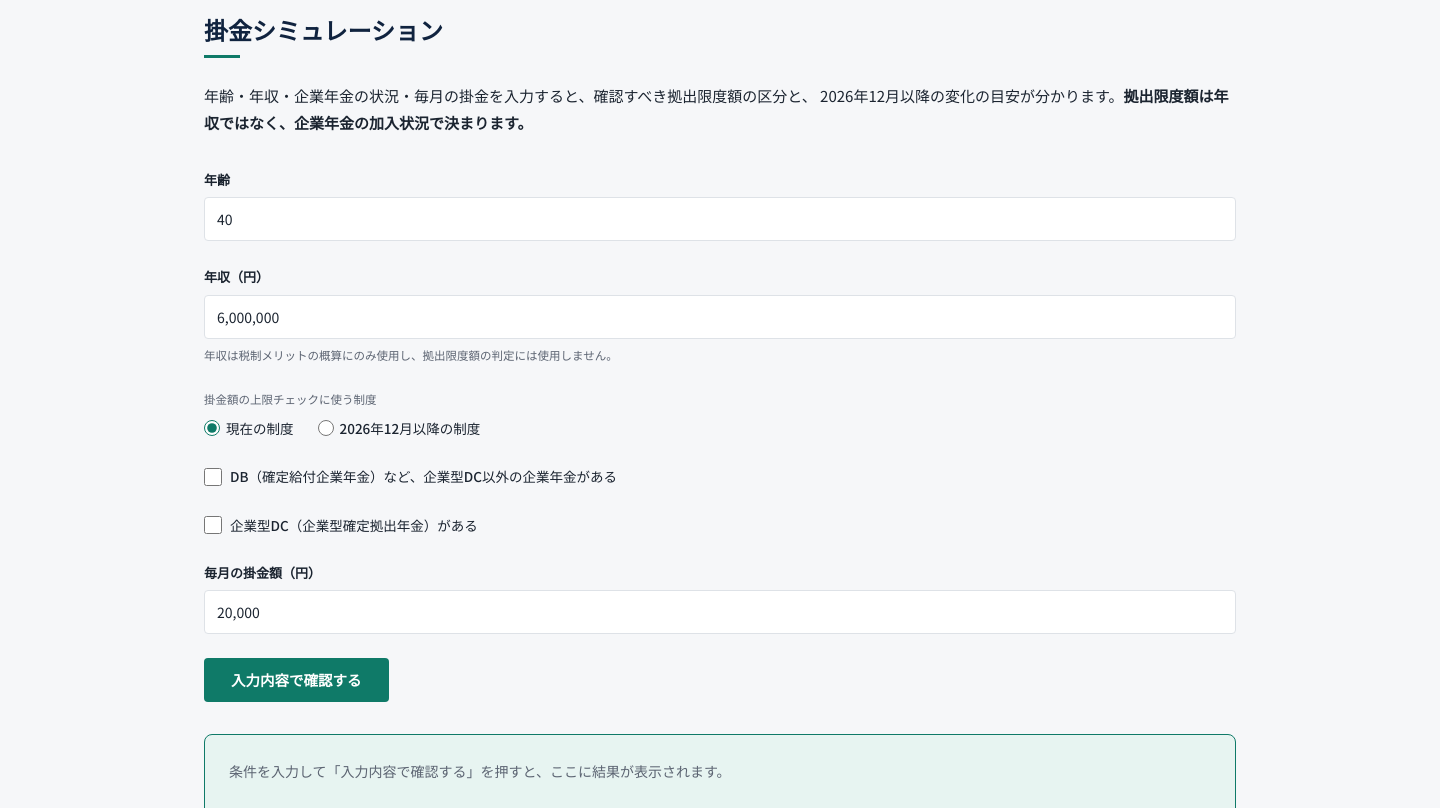
Test case: SimulatorSection › 年齢・年収のバリデーション › 年齢にマイナス値を入力するとエラーメッセージが表示される
Replace the text in the field labelled "年齢" with "-10" at (720, 219), box left=204, top=197, right=1236, bottom=241
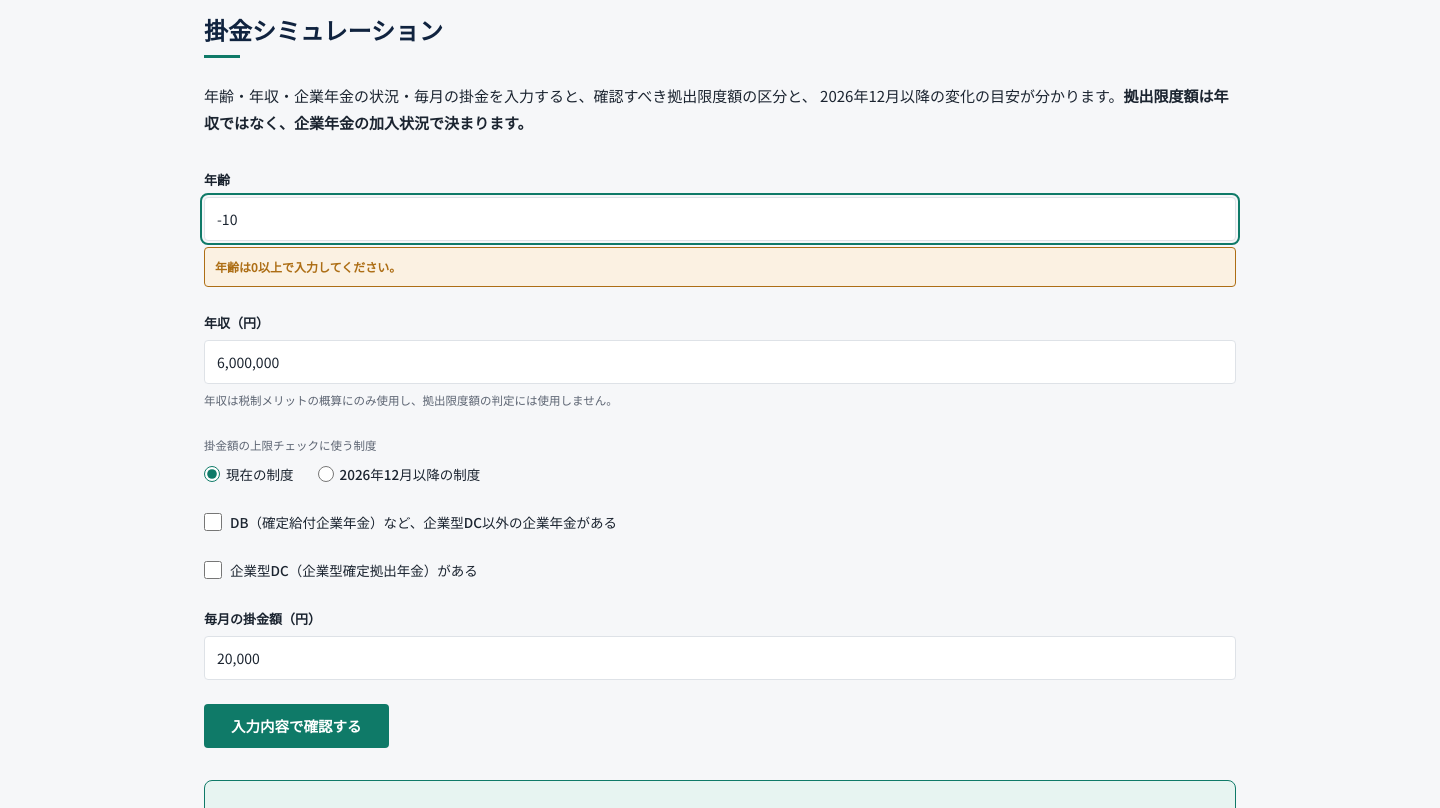
Expected: the message reads "年齢は0以上で入力してください。", left=215, top=258, right=401, bottom=275
